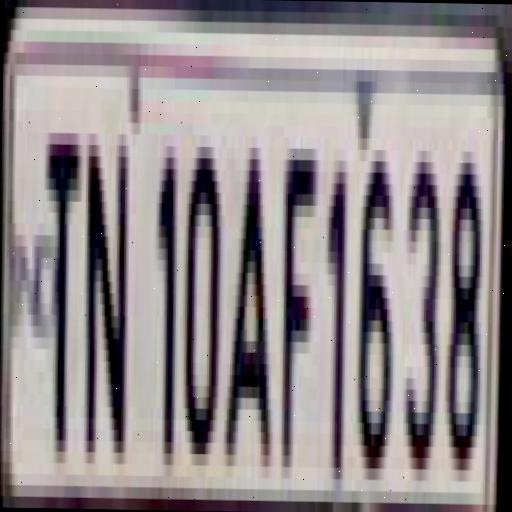number plate: (0, 7, 490, 512)
